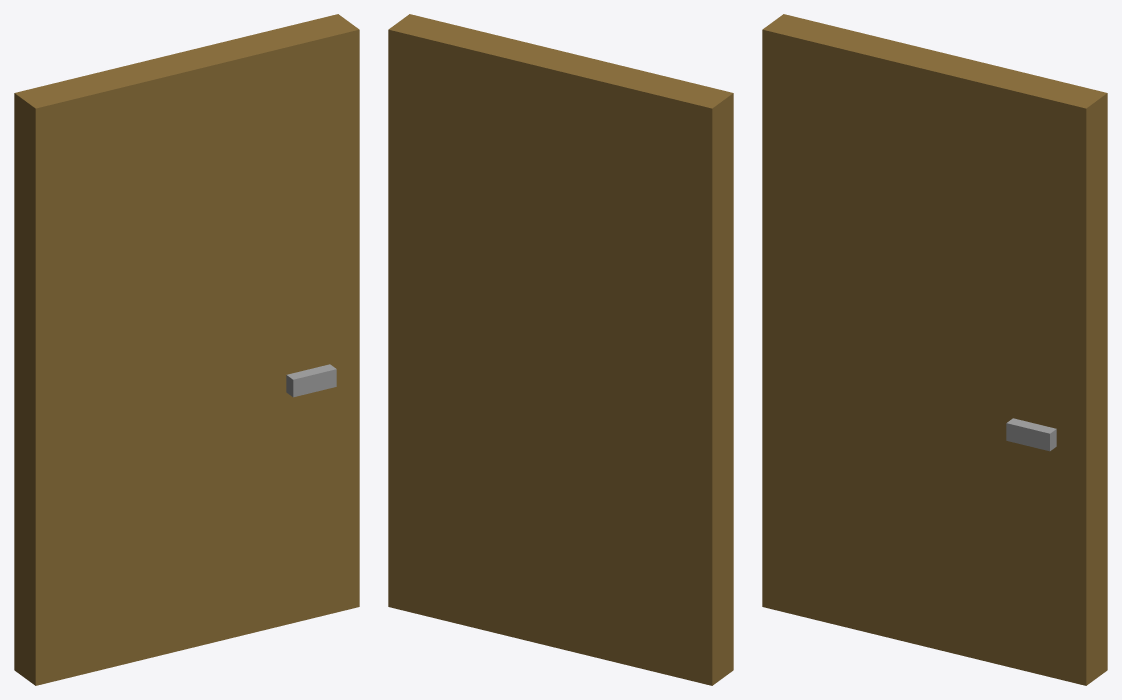
The model's file is Door.fbx.
3 views of the same model, side by side, from view 1: azimuth 30°, elevation 25°; view 2: azimuth 150°, elevation 25°; view 3: azimuth 330°, elevation 25° (orthographic).
Parts seen in each view (by area): view 1: Lighthouse Door; view 2: Lighthouse Door; view 3: Lighthouse Door.
Part boxes in pixels (x1,y1,x2,y2): Lighthouse Door: (14,14,359,685); Lighthouse Door: (388,14,733,685); Lighthouse Door: (762,14,1107,685).
Bounding box in the file's own units: 44.52 × 75.84 × 6.67.
